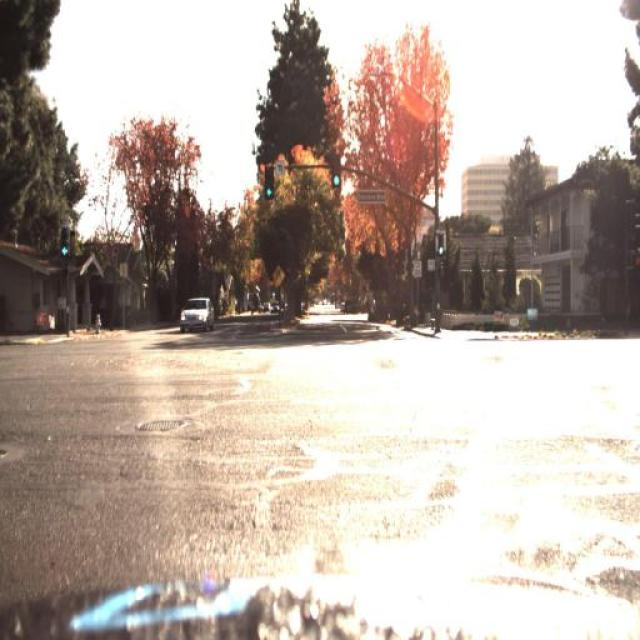car: (174, 294, 215, 334), (180, 296, 215, 336)
trafficLight-GreenLeft: (331, 152, 342, 192), (434, 227, 447, 257), (332, 167, 341, 199), (435, 238, 444, 264)
trafficLight-Red: (260, 160, 276, 206), (58, 226, 72, 262), (58, 229, 72, 263), (262, 181, 272, 215)
